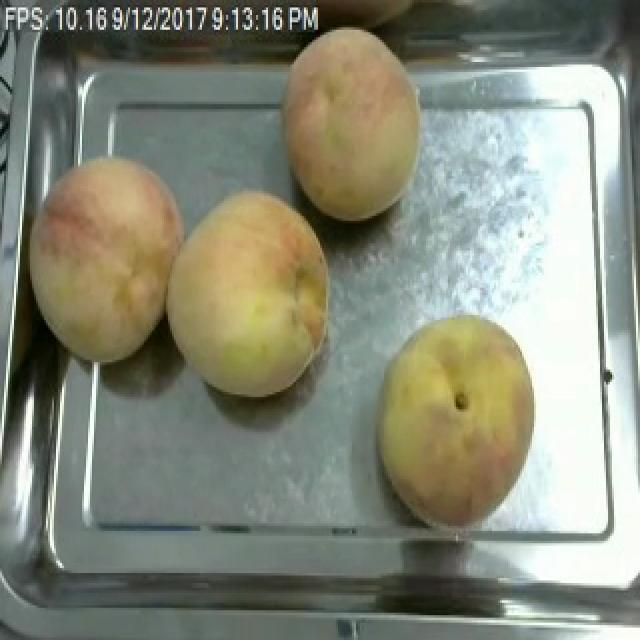Fruit: (16, 144, 196, 372), (158, 179, 340, 404), (366, 305, 544, 533), (270, 20, 432, 231)
